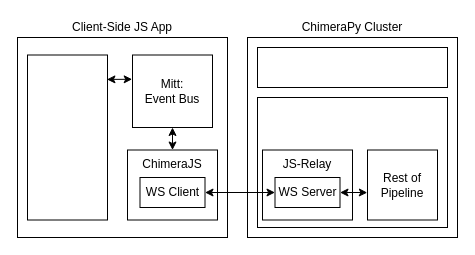
Some shapes in this 475 by 255 pixel diagram are drawn without their labels. Here are the shapes that lost their labels. From the top down, the box of each, then its label:
(256, 46, 448, 88): Manager
(26, 54, 108, 220): State Management
(256, 96, 448, 228): Data Processing Pipeline
